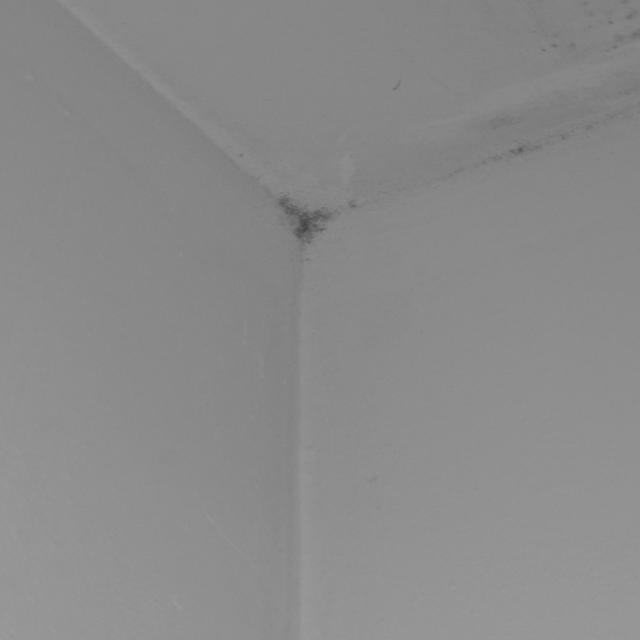stain marks: (347, 0, 640, 180), (262, 166, 350, 252)
